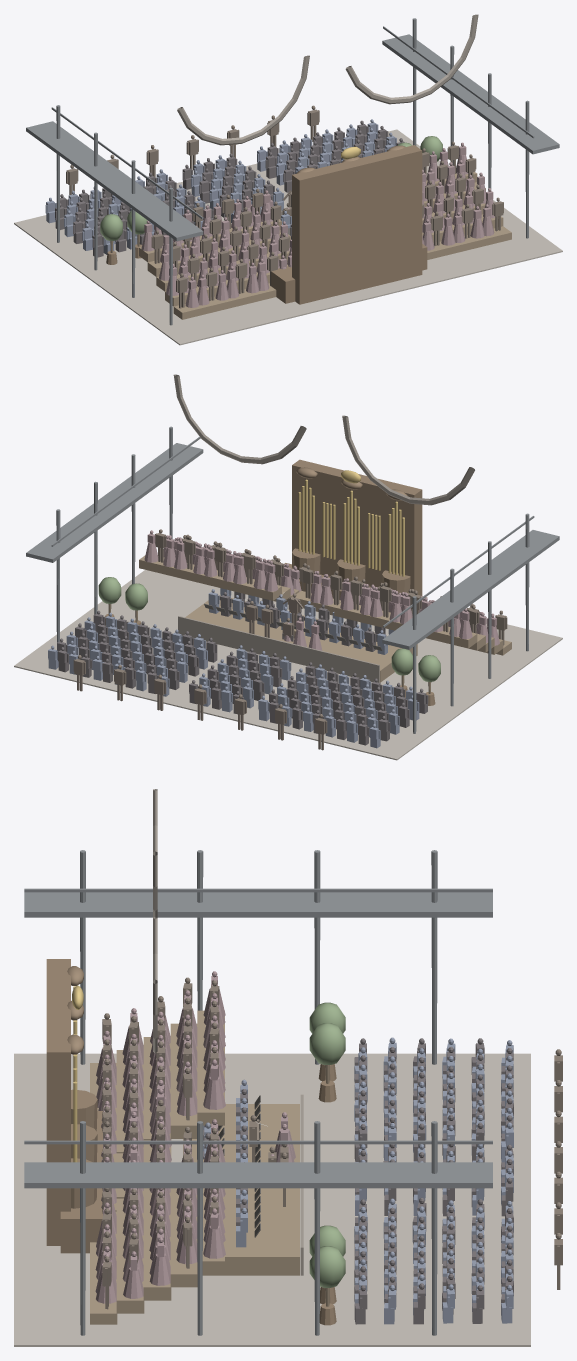
File: scan-fig67-handel-festival-1857-muse.glb
The picture shows the model from 3 angles, top to bottom: view 1: azimuth 30°, elevation 25°; view 2: azimuth 150°, elevation 25°; view 3: azimuth 270°, elevation 25°; orthographic projection. The views are drawn at different scales.
Parts seen in each view (by area): view 1: OrganCase, Floor, GalDeck, GalDeck.001, Swag, Swag.001, Tier, Tier.005, OrganGallery, TreeTop, GalCol.003, GalRail.001 (+8 smaller); view 2: Floor, OrganCase, GalDeck, GalDeck.001, OrchFront, OrchPlatform, Tier.009, Swag.001, Swag, Tier.004, TreeTop.003, TreeTop.002 (+10 smaller); view 3: Floor, GalDeck.001, GalDeck, OrchPlatform, OrganCase, GalRail, GalRail.001, OrganGallery, Tier.006, Tier.003, Tier.008, Tier.007 (+19 smaller).
Boxes of the visible parts, x1,y1,x2,y2 form: OrganCase: [292, 145, 422, 304]; Floor: [14, 129, 562, 345]; GalDeck: [26, 121, 203, 241]; GalDeck.001: [382, 34, 559, 154]; Swag: [177, 55, 309, 145]; Swag.001: [345, 14, 478, 104]; Tier: [173, 283, 276, 319]; Tier.005: [427, 226, 511, 259]; OrganGallery: [271, 244, 427, 303]; TreeTop: [100, 214, 122, 240]; GalCol.003: [56, 105, 60, 242]; GalRail.001: [383, 26, 534, 138]; Floor: [14, 570, 562, 760]; OrganCase: [292, 459, 422, 595]; GalDeck: [382, 530, 559, 649]; GalDeck.001: [26, 443, 203, 562]; OrchFront: [178, 616, 379, 682]; OrchPlatform: [185, 594, 417, 682]; Tier.009: [139, 555, 281, 600]; Swag.001: [173, 374, 306, 464]; Swag: [342, 415, 474, 505]; Tier.004: [334, 603, 477, 648]; TreeTop.003: [98, 577, 121, 603]; TreeTop.002: [125, 583, 147, 610]; Floor: [14, 1053, 530, 1346]; GalDeck.001: [24, 1162, 492, 1188]; GalDeck: [24, 892, 492, 917]; OrchPlatform: [183, 1104, 299, 1275]; OrganCase: [46, 959, 70, 1245]; GalRail: [24, 888, 492, 892]; GalRail.001: [24, 1140, 492, 1144]; OrganGallery: [60, 1111, 102, 1253]; Tier.006: [116, 1198, 144, 1313]; Tier.003: [170, 1023, 197, 1138]; Tier.008: [170, 1188, 197, 1287]; Tier.007: [143, 1188, 171, 1300].
Size of the model in its own units: 20 by 10.67 by 15.93.
